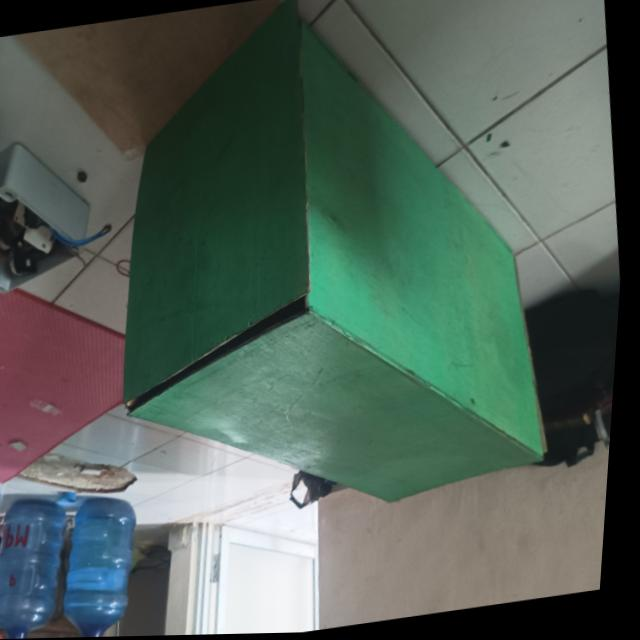green_box: (67, 0, 601, 574)
